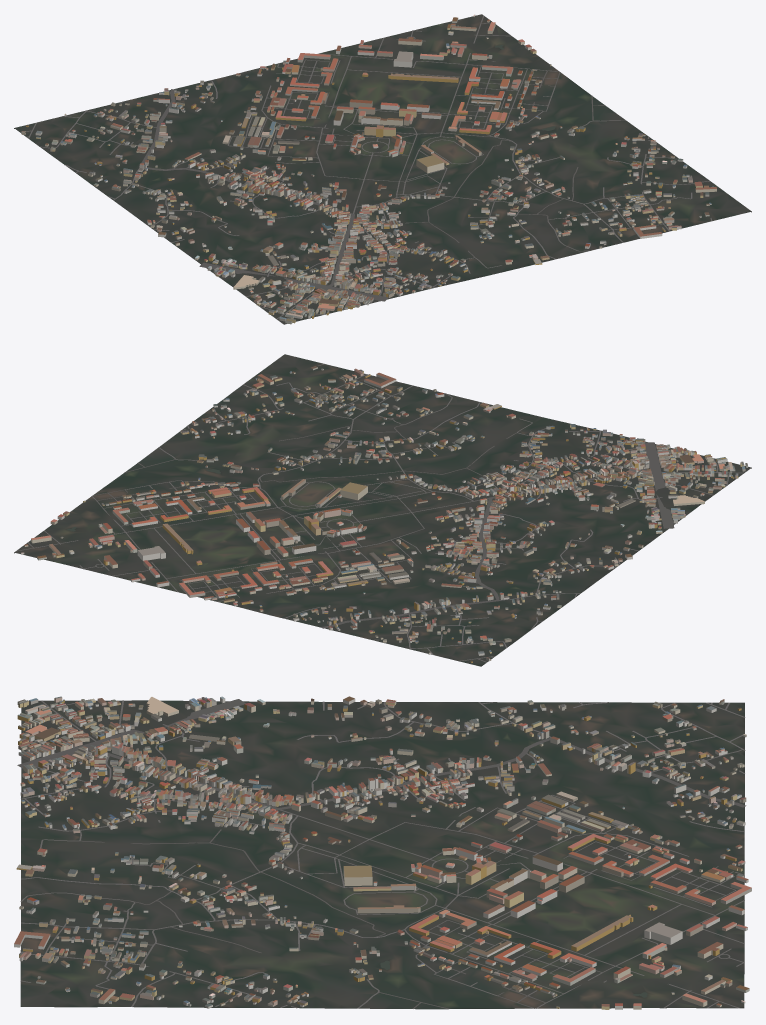
The picture shows the model from 3 angles, top to bottom: view 1: azimuth 30°, elevation 25°; view 2: azimuth 150°, elevation 25°; view 3: azimuth 270°, elevation 25°; orthographic projection. The views are drawn at different scales.
Visible parts, largest first — view 1: ground, buildings, roads; view 2: ground, buildings, roads; view 3: ground, buildings, roads.
Boxes of the visible parts, x1,y1,x2,y2 form: ground: [14, 14, 751, 324]; buildings: [21, 14, 716, 324]; roads: [20, 15, 712, 319]; ground: [14, 354, 751, 666]; buildings: [21, 366, 747, 662]; roads: [16, 363, 744, 662]; ground: [20, 700, 744, 1009]; buildings: [14, 696, 751, 1009]; roads: [17, 699, 746, 1009].
Size of the model in its own units: 1418 by 30.74 by 1429.
